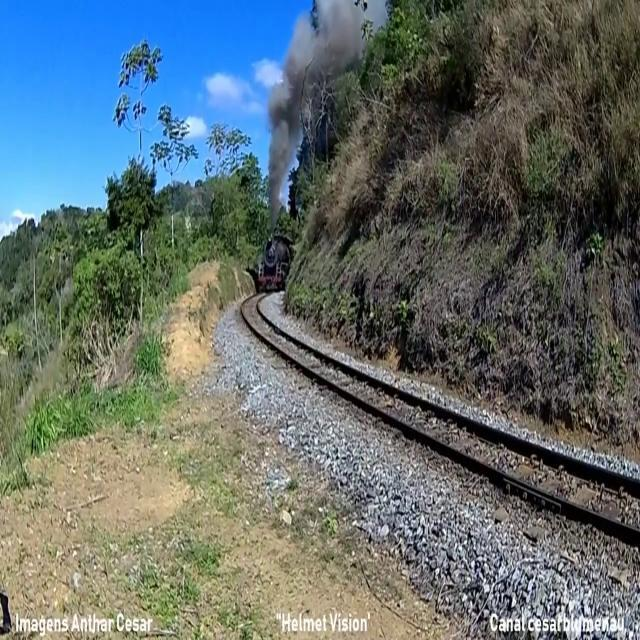Smoke: (258, 0, 391, 245)
